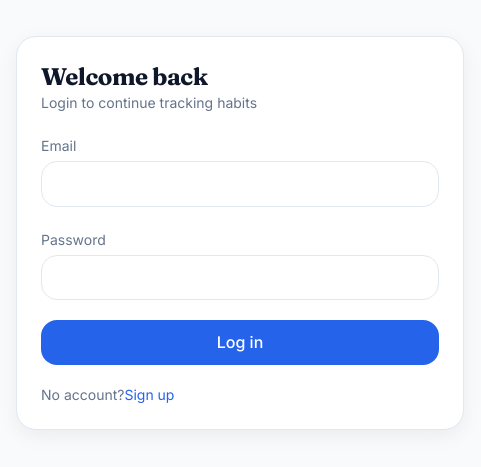
it: auth flow › shows an error for invalid login credentials
Type "no@b.com" into the field with test id "auth-login-email".
click(240, 184); type("no@b.com")  # box [41,161,439,207]
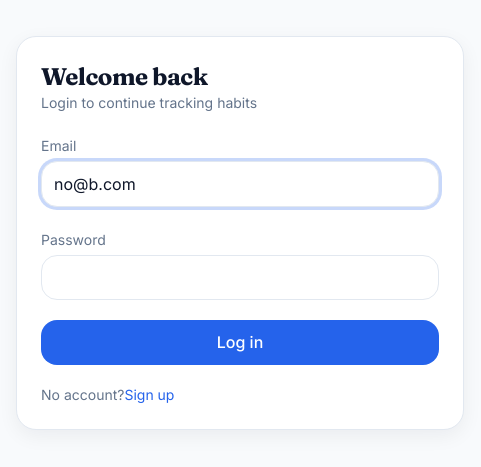
Type "bad" into the password field with test id "auth-login-password".
click(240, 277); type("bad")  # box [41,255,439,300]
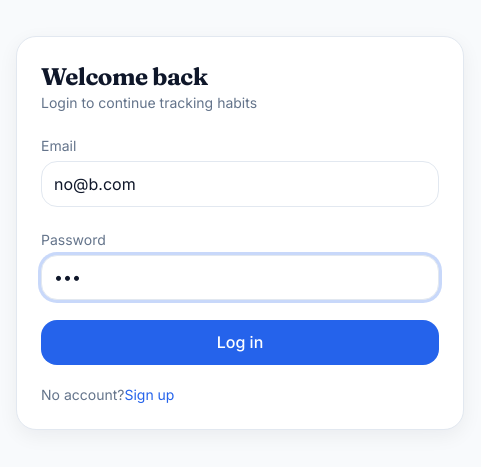
Click the button with test id "auth-login-submit".
click(240, 342)  # box [41,320,439,365]
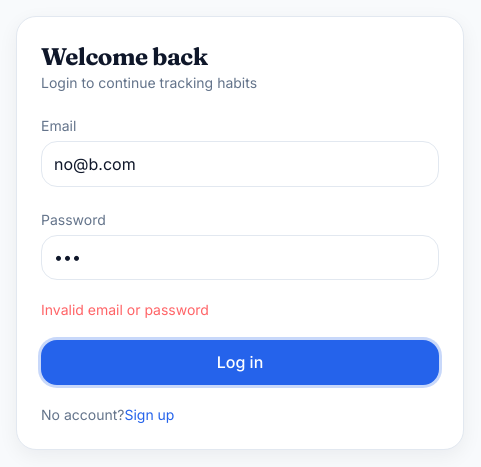
Check: the text "Invalid email or password" is shown, box [41,301,209,318]
